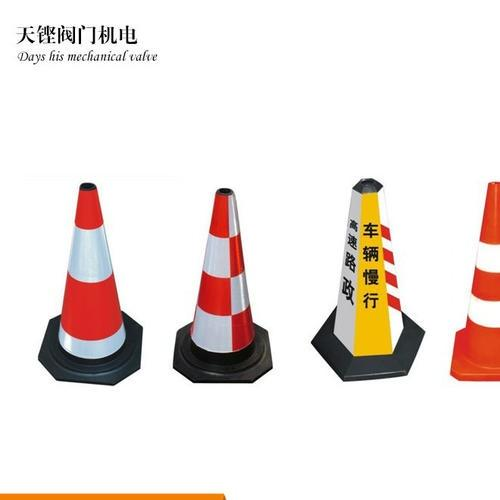cone_barrel: (306, 181, 421, 381), (40, 187, 137, 375), (173, 191, 270, 379), (451, 183, 499, 382)
